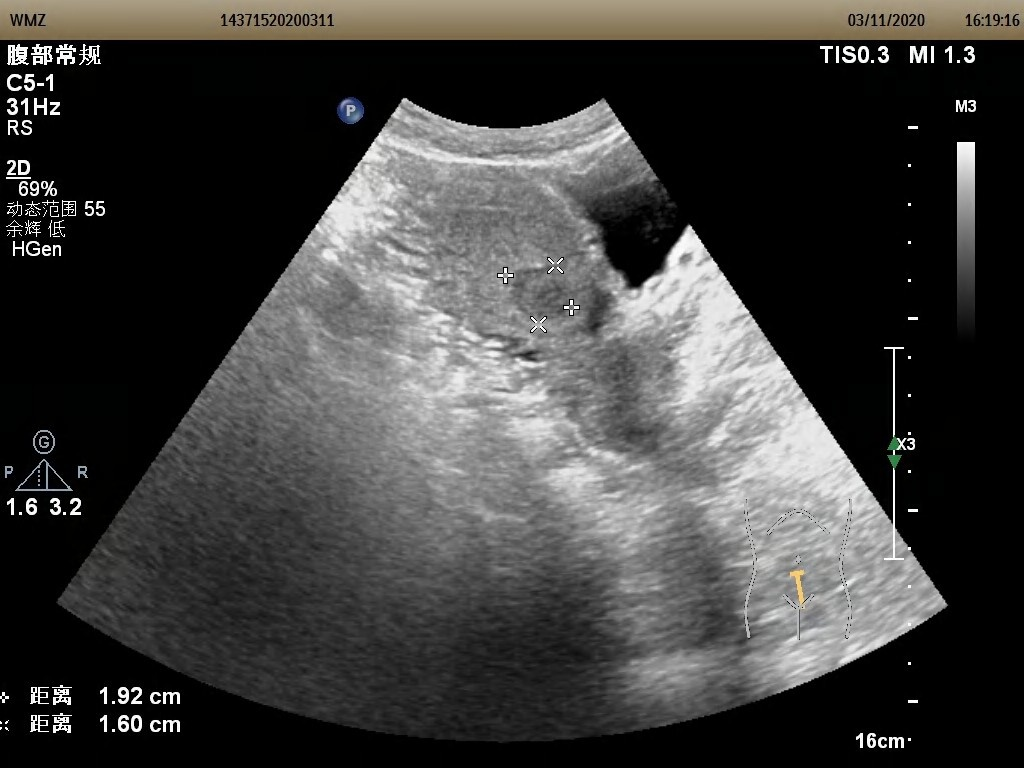肌瘤: (506, 264, 575, 327)
